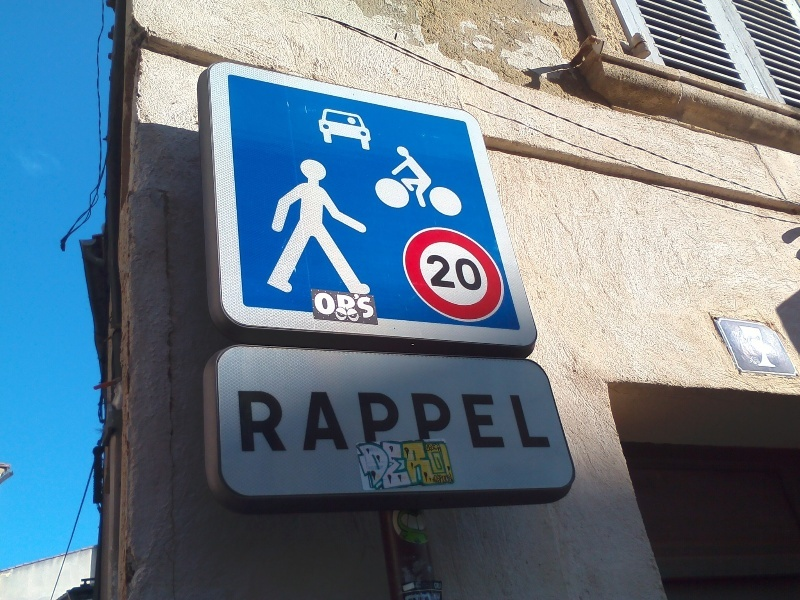text: (241, 388, 256, 455), (257, 388, 272, 455), (273, 388, 288, 455), (289, 388, 304, 455), (305, 388, 320, 455), (321, 388, 336, 455), (337, 388, 352, 455), (353, 388, 368, 455), (369, 388, 384, 455), (385, 388, 400, 455), (401, 388, 416, 455), (417, 388, 432, 455), (433, 388, 448, 455), (449, 388, 464, 455), (465, 388, 480, 455), (481, 388, 496, 455), (497, 388, 512, 455), (513, 388, 528, 455), (529, 388, 544, 455), (353, 440, 368, 496), (369, 440, 384, 496), (385, 440, 400, 496), (401, 440, 416, 496), (417, 440, 432, 496), (433, 440, 448, 496), (449, 440, 464, 496), (737, 323, 752, 373), (753, 323, 768, 373), (545, 388, 554, 455), (433, 254, 448, 292), (449, 254, 464, 292), (465, 254, 480, 292), (769, 323, 780, 373), (321, 290, 336, 322), (337, 290, 352, 322), (353, 290, 368, 322), (313, 290, 320, 322), (369, 290, 376, 322), (237, 388, 240, 455), (427, 254, 432, 292), (433, 474, 448, 484), (481, 254, 484, 292), (434, 582, 448, 590), (433, 442, 442, 452), (424, 442, 432, 452), (449, 474, 454, 484)
